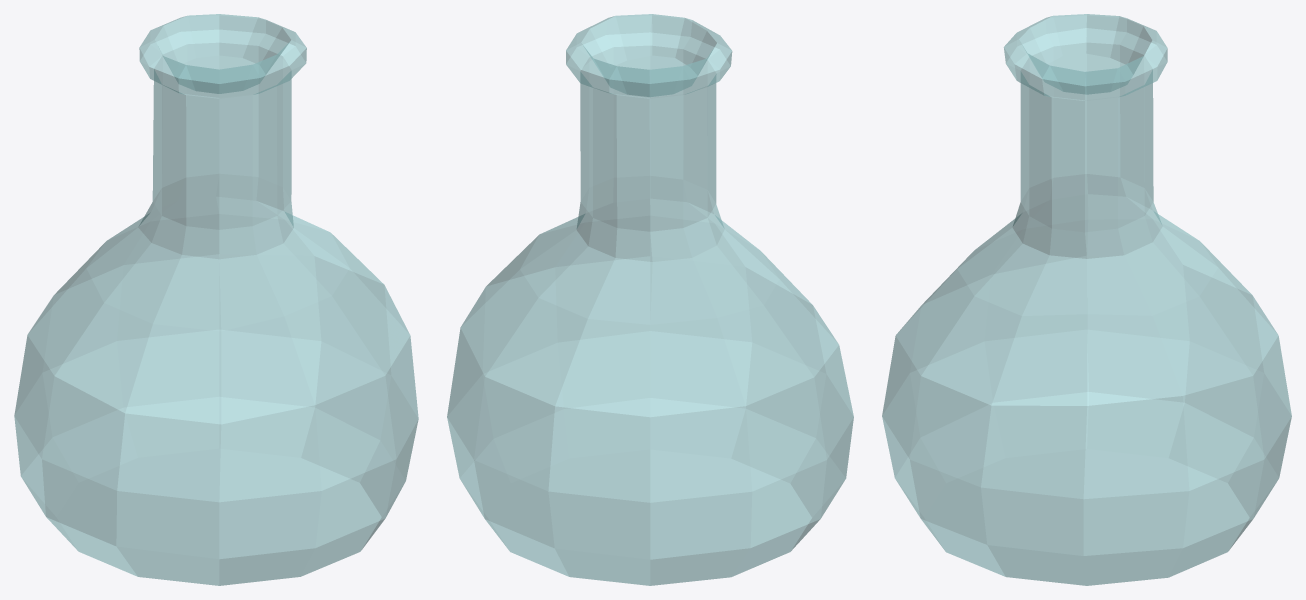
File: Bottle.fbx
3 renders of one model, left to right at view 1: azimuth 30°, elevation 25°; view 2: azimuth 150°, elevation 25°; view 3: azimuth 270°, elevation 25°, orthographic.
Visible parts, largest first — view 1: Bottle; view 2: Bottle; view 3: Bottle.
Part boxes in pixels (x1,y1,x2,y2): Bottle: (14,14,418,585); Bottle: (447,14,853,585); Bottle: (882,14,1291,585).
Bounding box in the file's own units: 0.1767 × 0.2322 × 0.1803.
